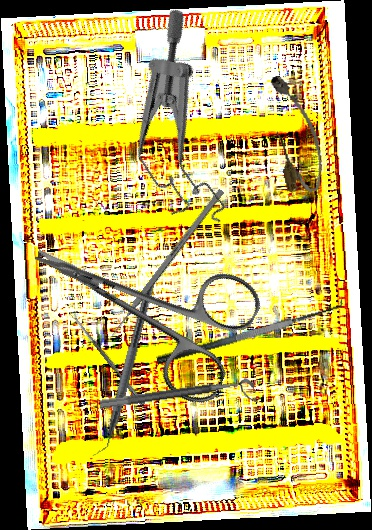Cannula: (263, 70, 329, 197)
Chopper: (90, 280, 154, 461)
Fixation Ring: (99, 377, 256, 423)
Iris Scissors: (8, 189, 269, 412)
Pusher: (102, 188, 225, 347)
Spatula Surgical: (151, 290, 347, 367)
Speculum: (76, 4, 291, 246)
Surgical Spoon: (69, 310, 146, 407)
